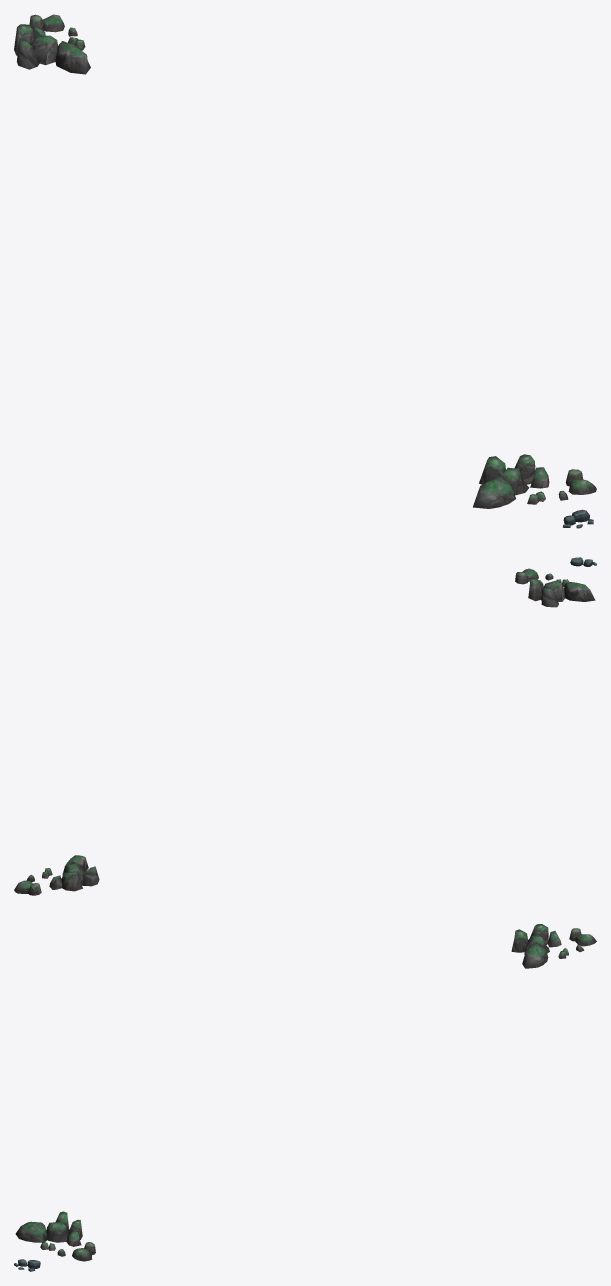
File: Area_12_31.fbx
3 renders of one model, top to bottom at view 1: azimuth 30°, elevation 25°; view 2: azimuth 150°, elevation 25°; view 3: azimuth 330°, elevation 25°, orthographic. The views are drawn at different scales.
Parts seen in each view (by area): view 1: Area_12_31; view 2: Area_12_31; view 3: Area_12_31.
Part boxes in pixels (<box>): Area_12_31: <box>14,14,596,528</box>; Area_12_31: <box>14,557,596,895</box>; Area_12_31: <box>14,924,596,1271</box>.
Size of the model in its own units: 1931 by 246 by 11699.
